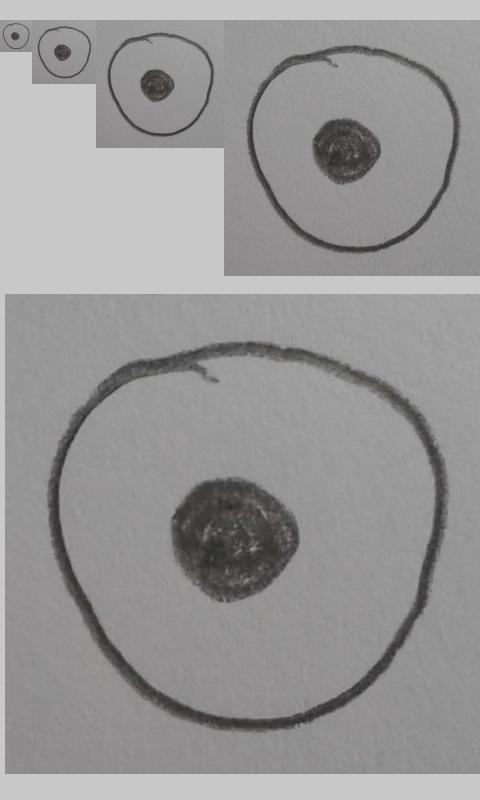radio_button: (48, 342, 448, 735), (246, 44, 462, 254), (107, 32, 214, 138), (37, 26, 91, 79), (2, 22, 30, 50)
